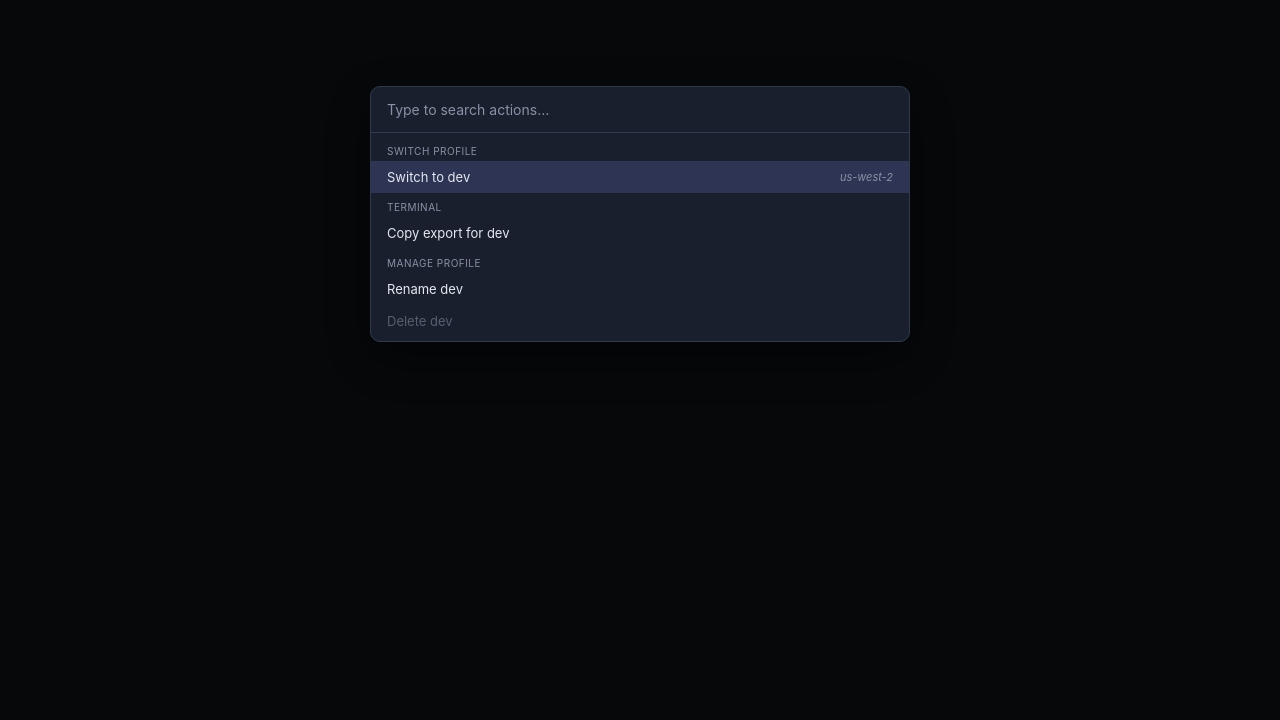
Test: CommandPalette › filters actions by substring match
In the field named "Command palette search": point(640, 110) [371,87,909,133], type "rename"
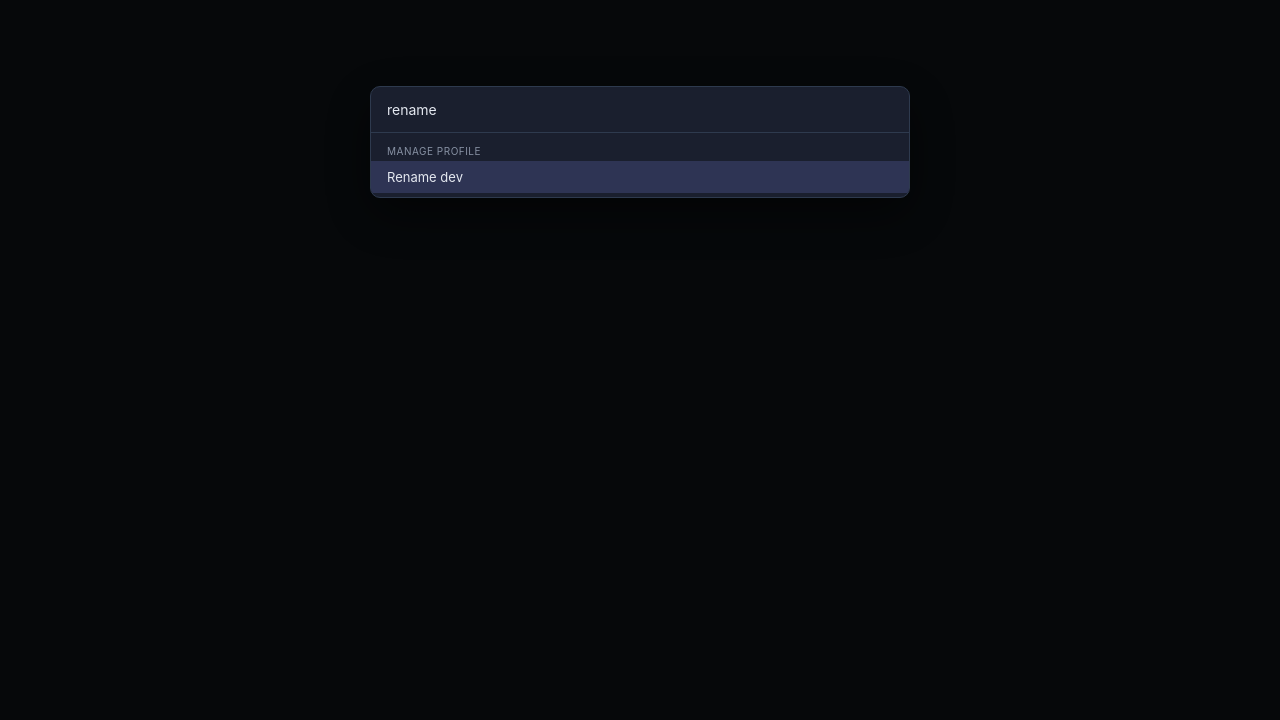
Expected: the text "Rename dev" is shown, [387,169,463,185]
Now the option "Switch to dev" is gone
